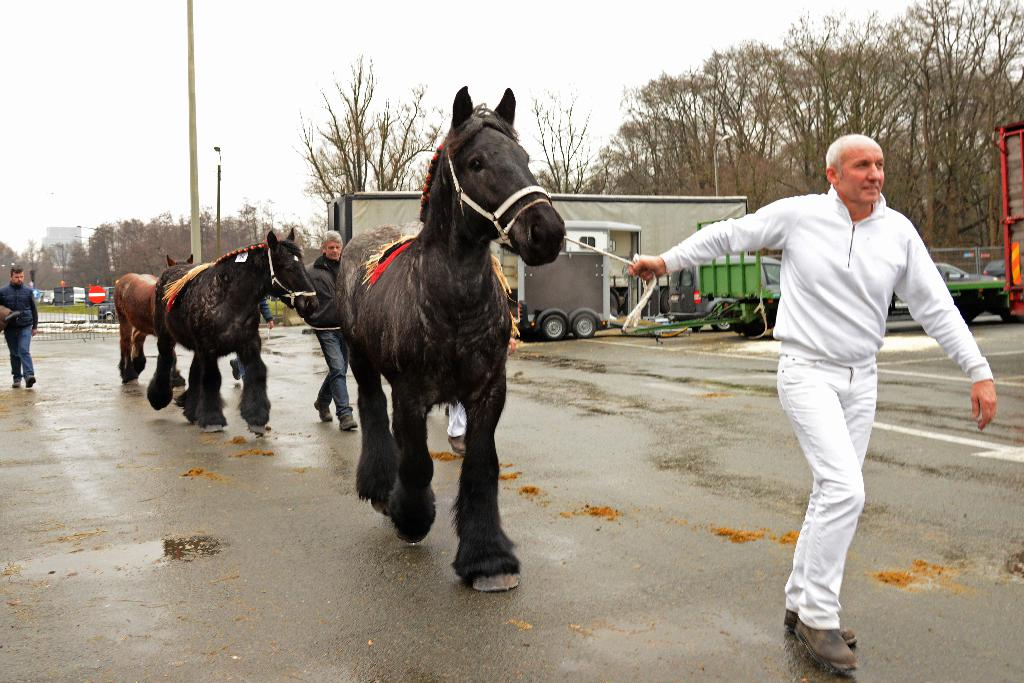horse: (330, 82, 566, 597), (149, 228, 320, 435)
